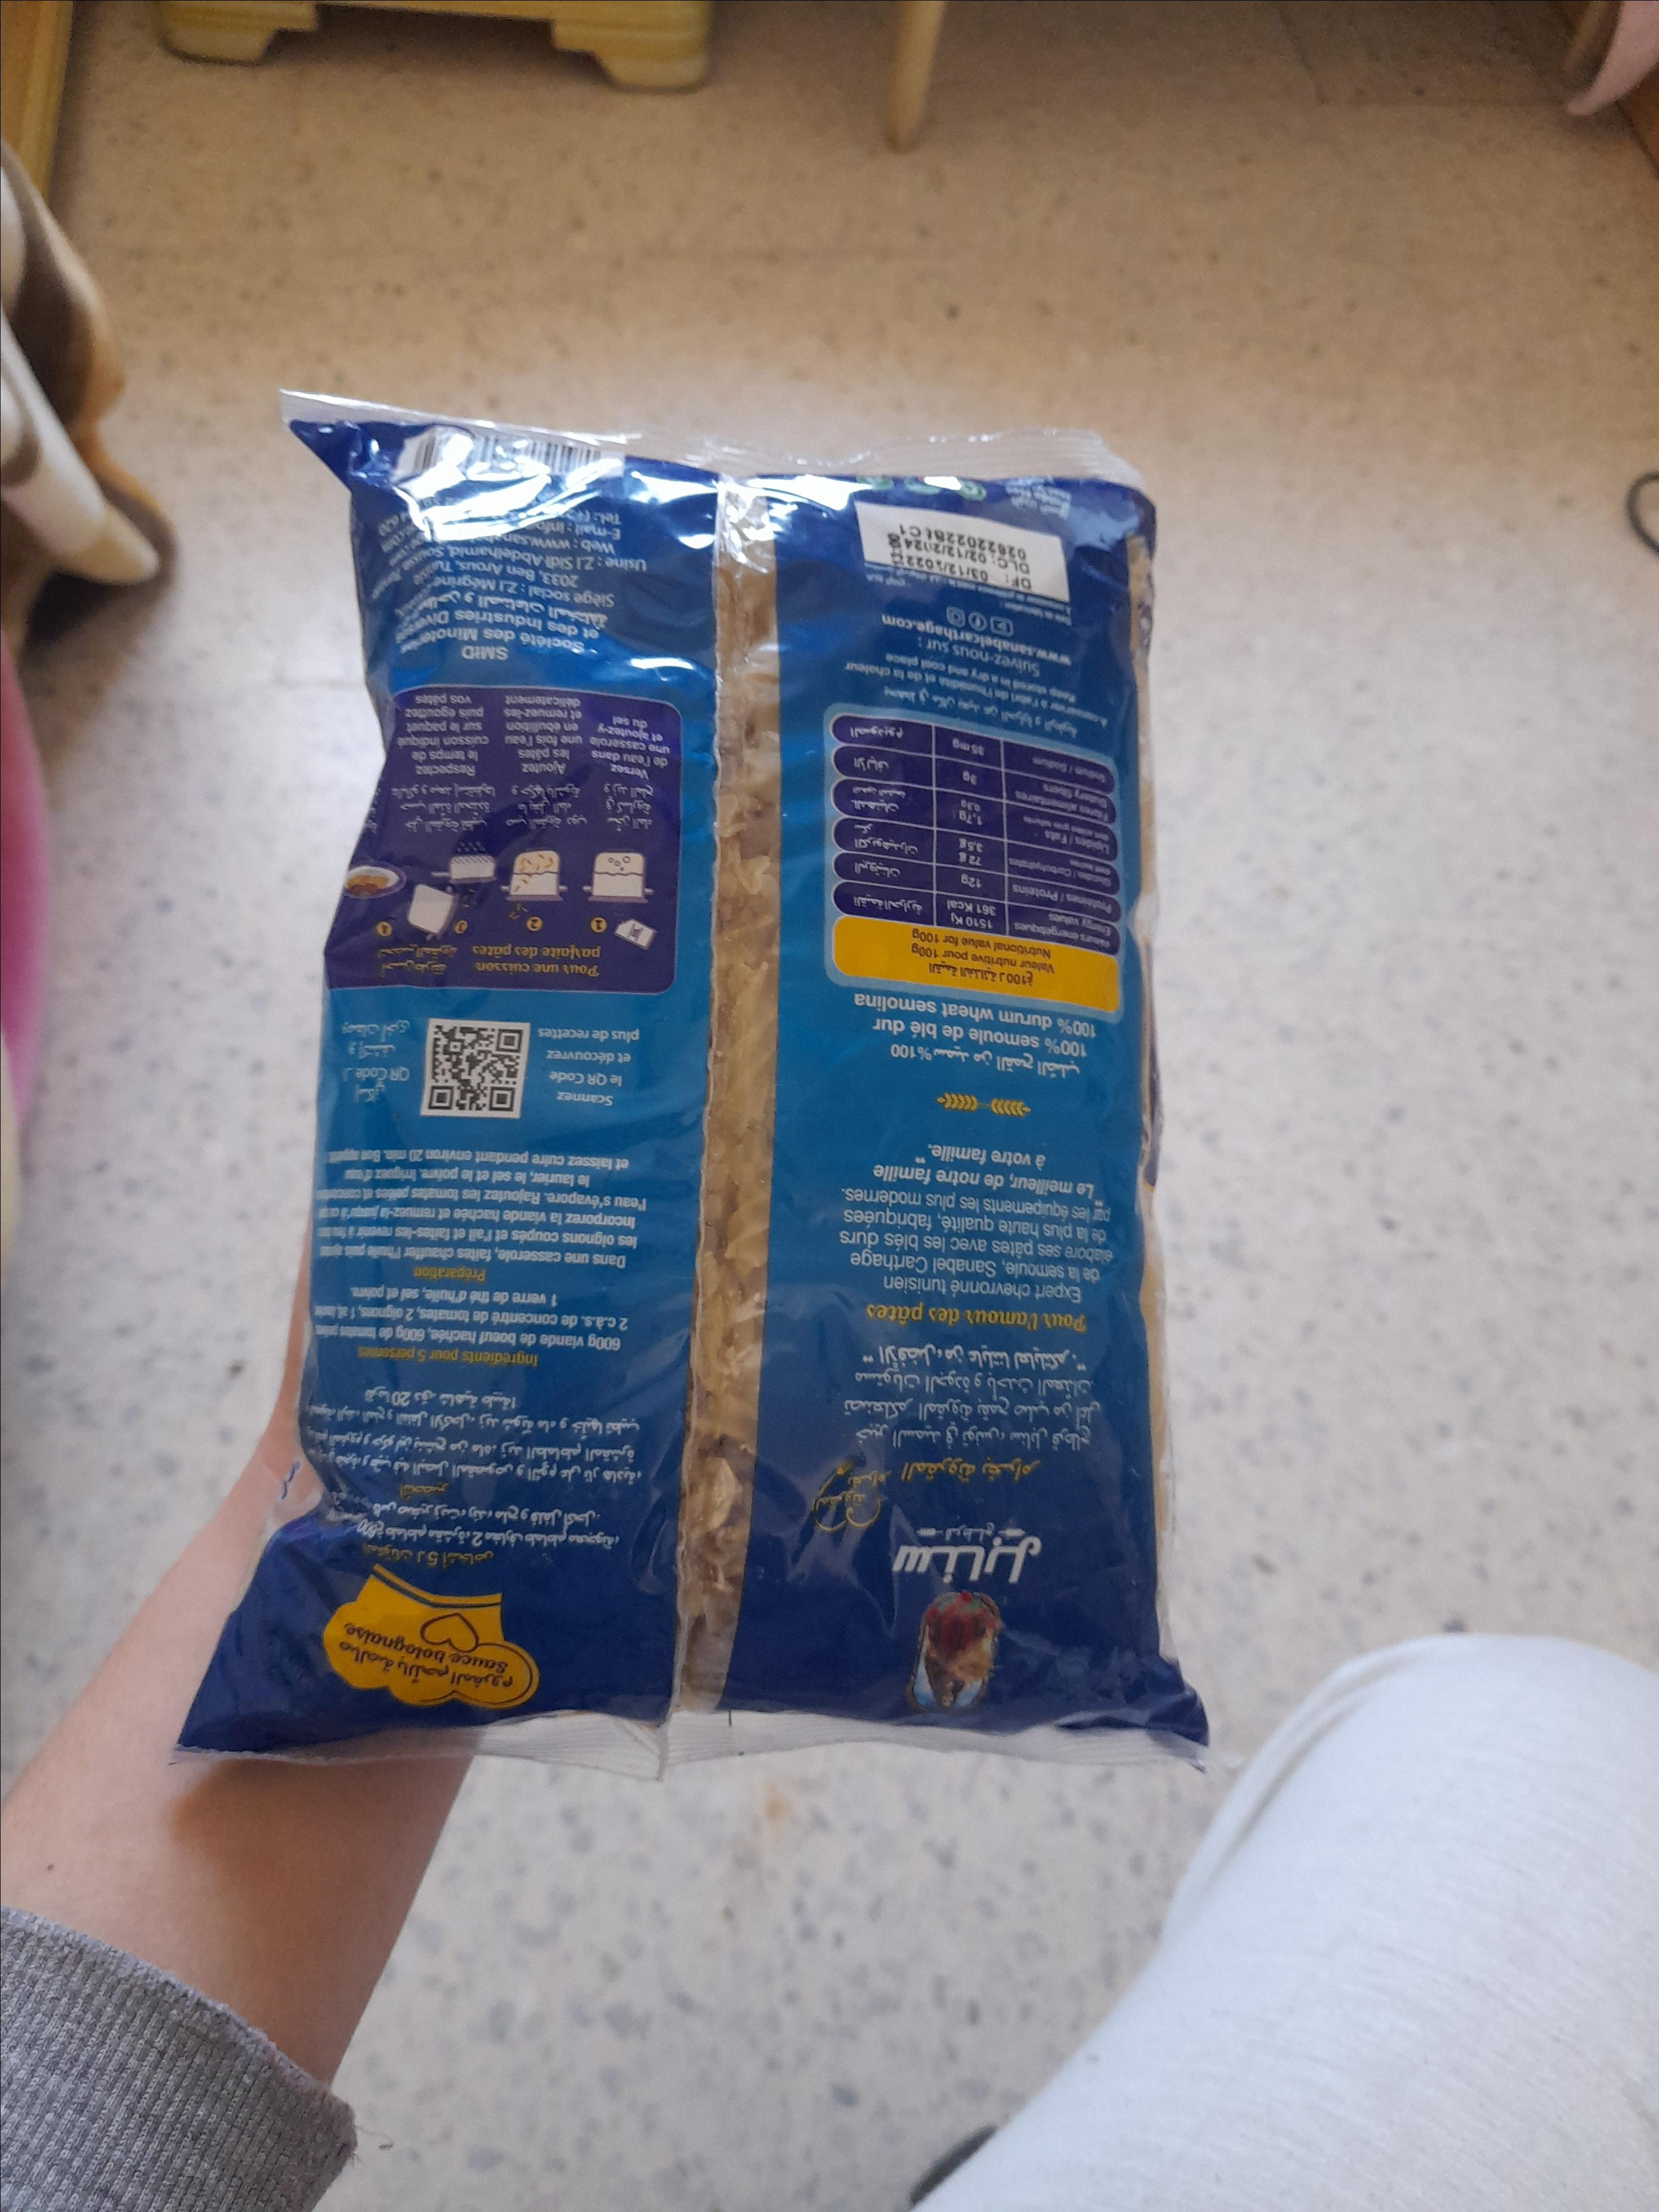Ressort: (115, 202, 601, 850)
